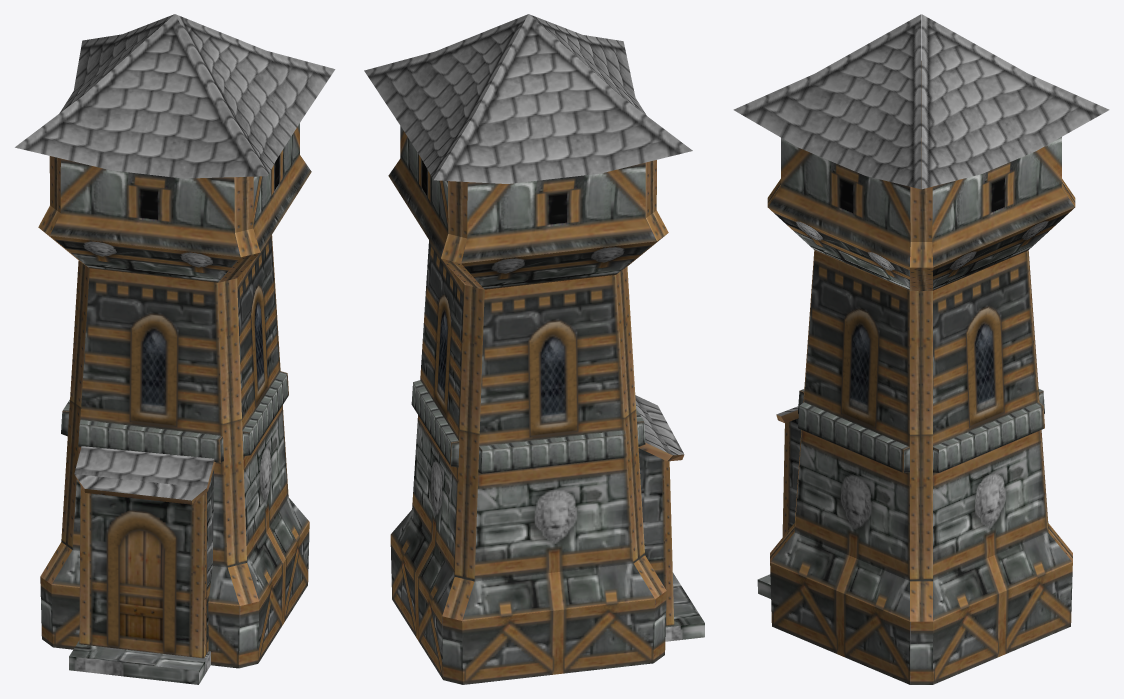
File: h_tower.FBX
3 views of the same model, side by side, from view 1: azimuth 30°, elevation 25°; view 2: azimuth 150°, elevation 25°; view 3: azimuth 270°, elevation 25° (orthographic). The views are drawn at different scales.
Parts seen in each view (by area): view 1: h_tower; view 2: h_tower; view 3: h_tower.
Boxes of the visible parts, bbox=[...] form: h_tower: bbox=[15, 14, 335, 684]; h_tower: bbox=[364, 14, 704, 684]; h_tower: bbox=[733, 14, 1109, 684].
Size of the model in its own units: 93.61 by 167 by 93.61.
